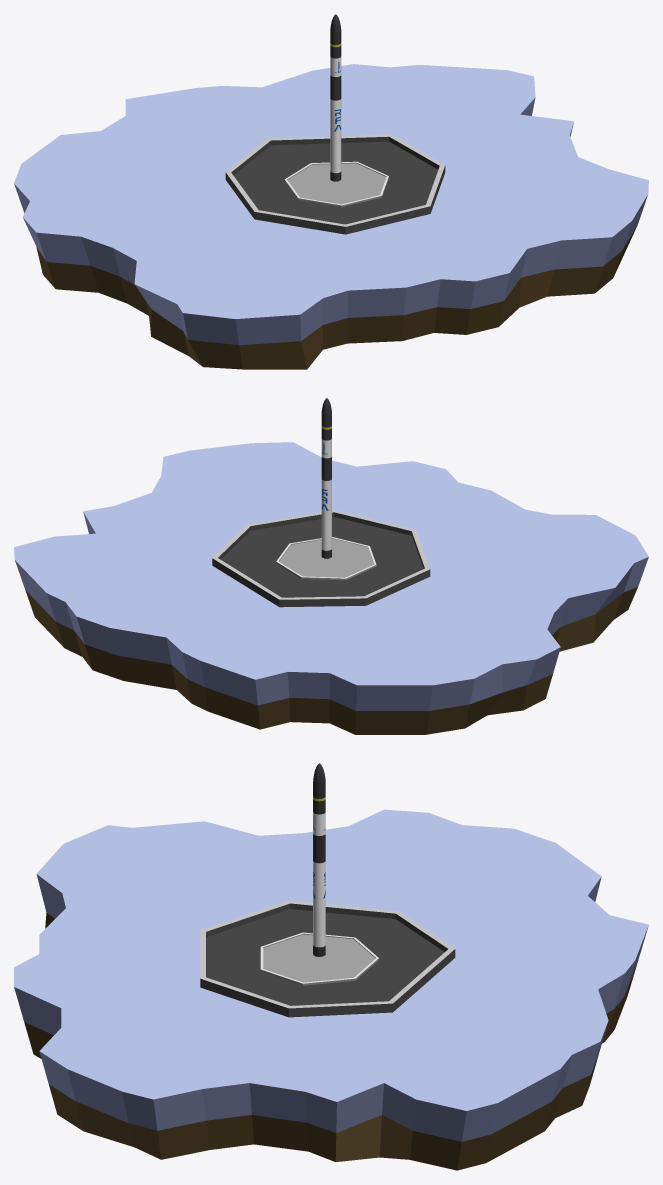
The model's file is rfa1.gltf.
3 renders of one model, top to bottom at view 1: azimuth 30°, elevation 25°; view 2: azimuth 150°, elevation 25°; view 3: azimuth 270°, elevation 25°, orthographic. The views are drawn at different scales.
Parts seen in each view (by area): view 1: Cylinder.003, Cylinder.009; view 2: Cylinder.003, Cylinder.009; view 3: Cylinder.003, Cylinder.009.
Boxes of the visible parts, <box> form: Cylinder.003: <box>14,64,648,369</box>; Cylinder.009: <box>330,14,341,181</box>; Cylinder.003: <box>14,442,648,734</box>; Cylinder.009: <box>321,398,331,559</box>; Cylinder.003: <box>14,809,648,1170</box>; Cylinder.009: <box>313,763,325,957</box>.
Bounding box in the file's own units: 8.06 × 3.35 × 7.18.
9 materials, 1 textured.
